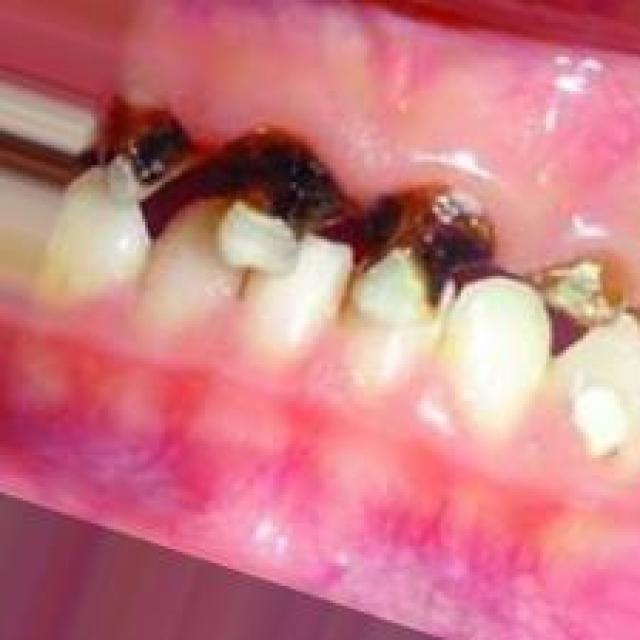caries: (206, 114, 352, 281), (352, 173, 494, 329), (91, 88, 202, 216), (520, 232, 630, 346)
